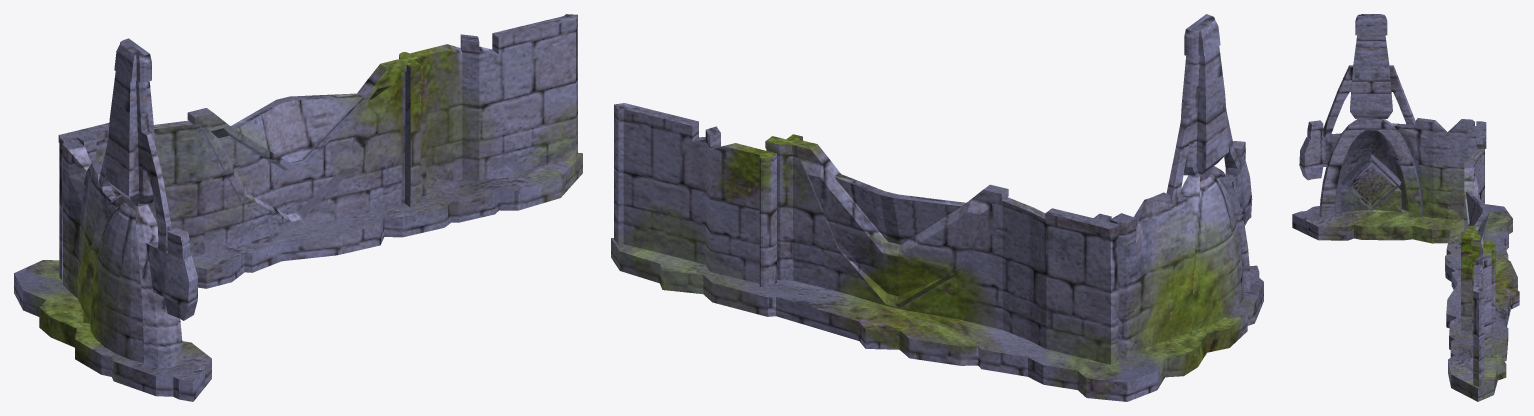
The picture shows the model from 3 angles, left to right: view 1: azimuth 30°, elevation 25°; view 2: azimuth 150°, elevation 25°; view 3: azimuth 270°, elevation 25°; orthographic projection. The views are drawn at different scales.
Bounding box in the file's own units: 19.37 × 10.11 × 9.84.
Materials: 1 (1 with a texture image).
